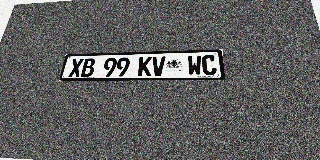plate: (59, 49, 225, 81)
